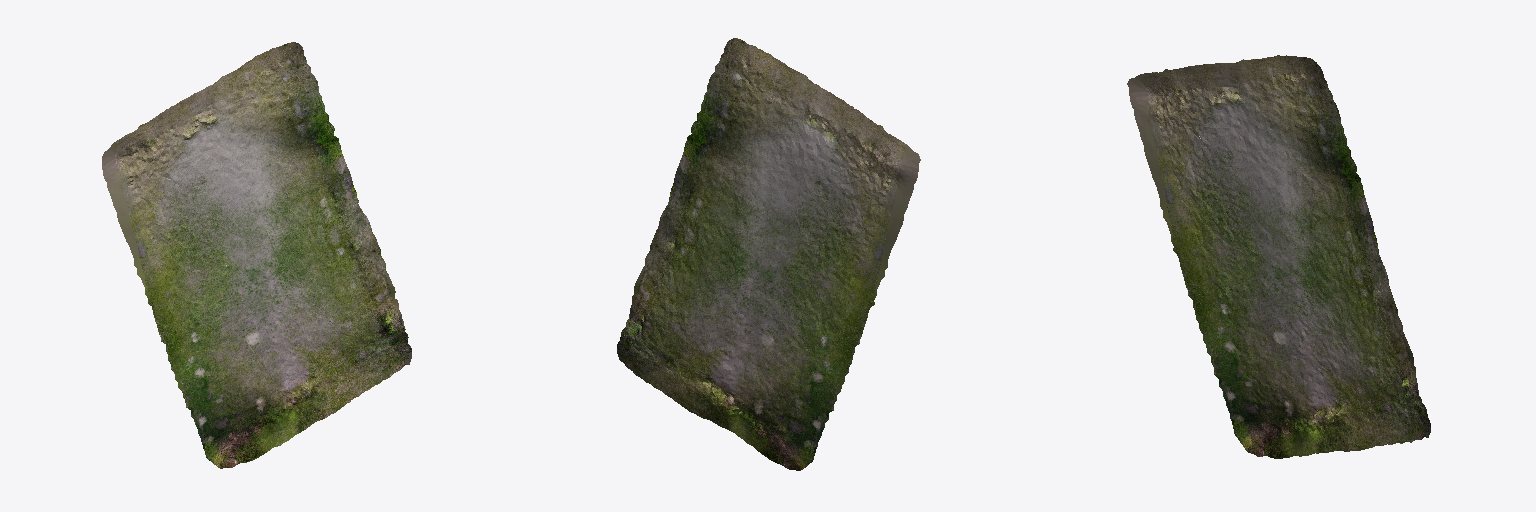
3 renders of one model, left to right at view 1: azimuth 30°, elevation 25°; view 2: azimuth 150°, elevation 25°; view 3: azimuth 330°, elevation 25°, orthographic.
Bounding box in the file's own units: 26.48 × 34.19 × 1.73.
1 materials, 1 textured.